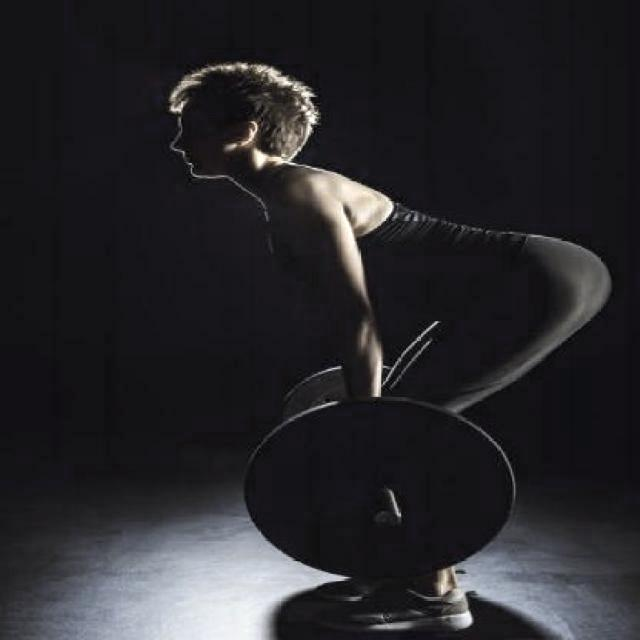barbell: (238, 390, 522, 587)
